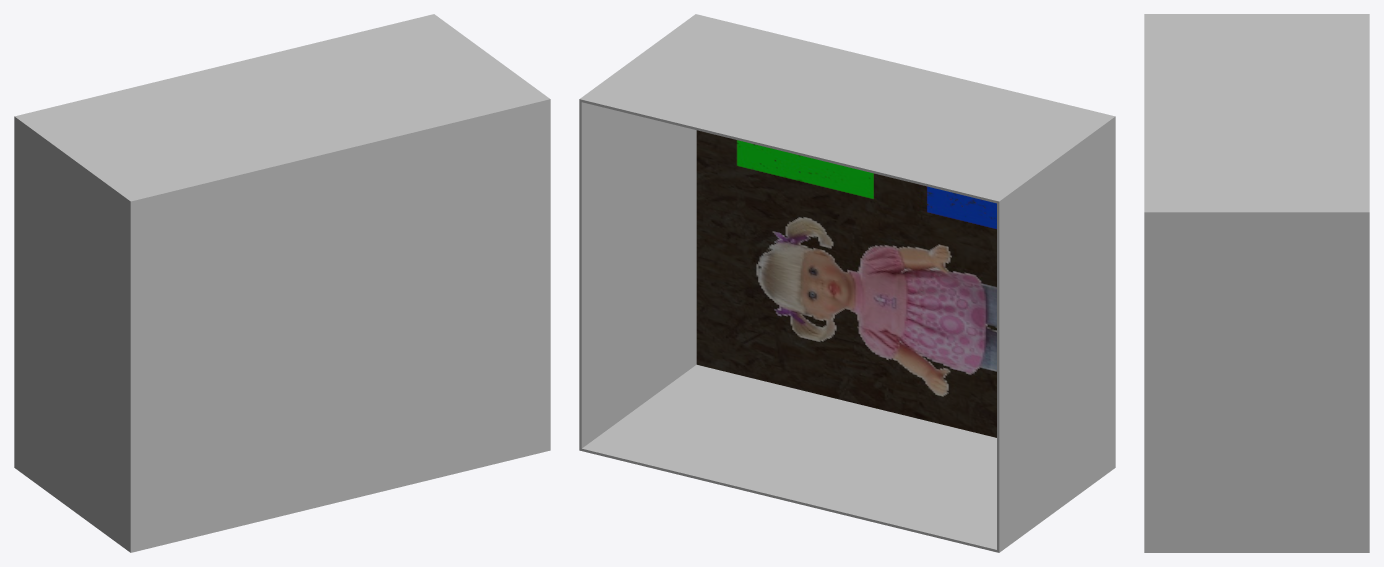
Rendered from victim_with_box_sc.dae.
The picture shows the model from 3 angles, left to right: view 1: azimuth 30°, elevation 25°; view 2: azimuth 150°, elevation 25°; view 3: azimuth 270°, elevation 25°; orthographic projection. The views are drawn at different scales.
Visible parts, largest first — view 1: Cube; view 2: Cube; view 3: Cube.
Boxes of the visible parts, box(x1,y1,x2,y2) form: Cube: box(14, 14, 550, 552); Cube: box(579, 14, 1115, 552); Cube: box(1144, 14, 1369, 552).
Bounding box in the file's own units: 0.5 × 0.24 × 0.4.
